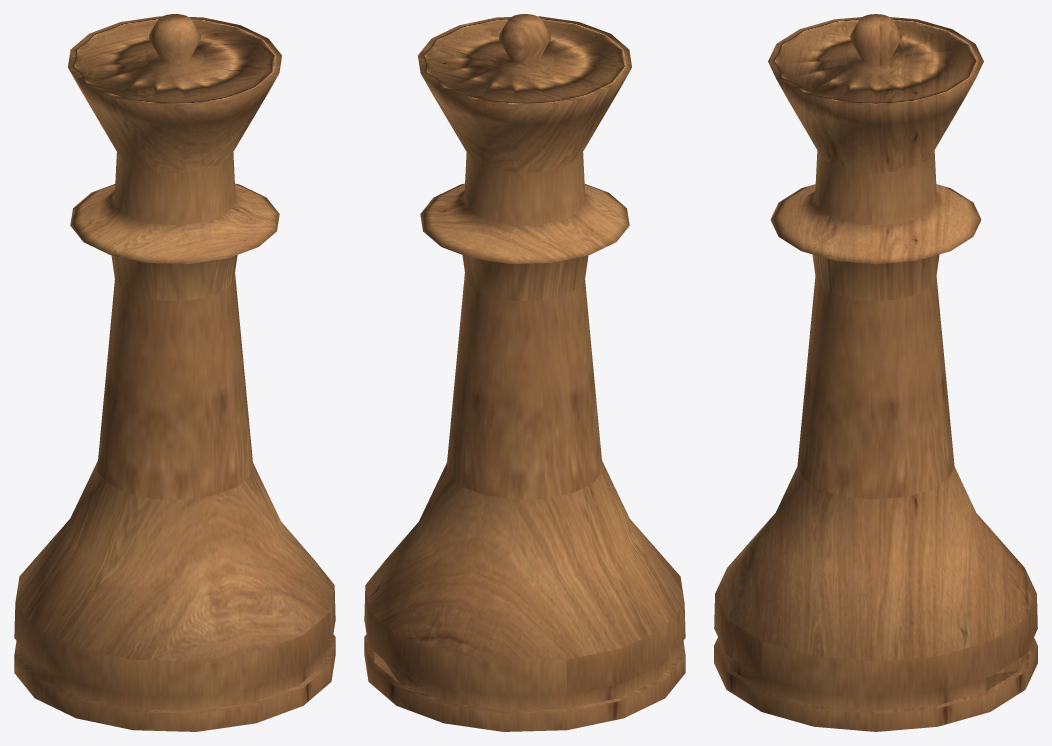
The model's file is king_b.glb.
3 renders of one model, left to right at view 1: azimuth 30°, elevation 25°; view 2: azimuth 150°, elevation 25°; view 3: azimuth 270°, elevation 25°, orthographic.
Visible parts, largest first — view 1: Cylinder.017; view 2: Cylinder.017; view 3: Cylinder.017.
Part boxes in pixels (left/top/right/bottom): Cylinder.017: left=14, top=14, right=335, bottom=731; Cylinder.017: left=364, top=14, right=685, bottom=731; Cylinder.017: left=714, top=14, right=1037, bottom=731.
Bounding box in the file's own units: 7.99 × 17.49 × 7.99.
Materials: 1 (1 with a texture image).
